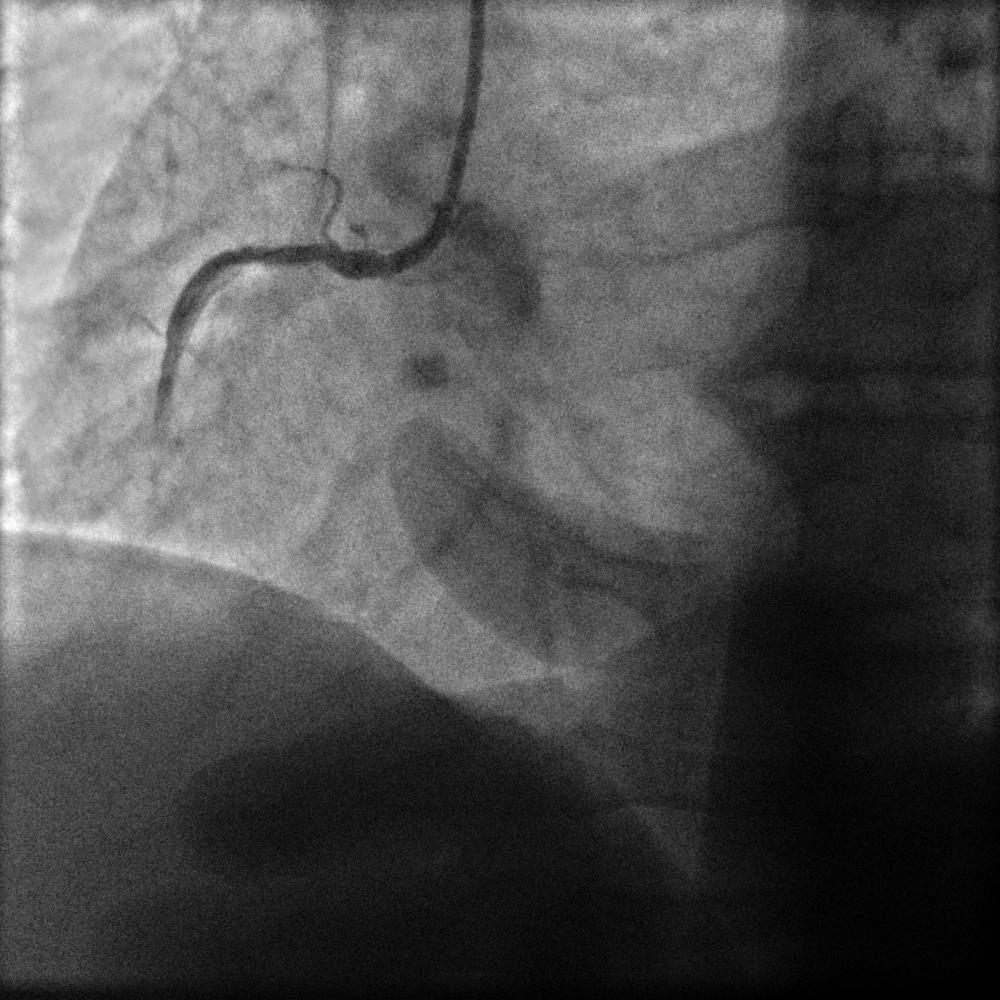Stenosis: (242, 229, 372, 285)
